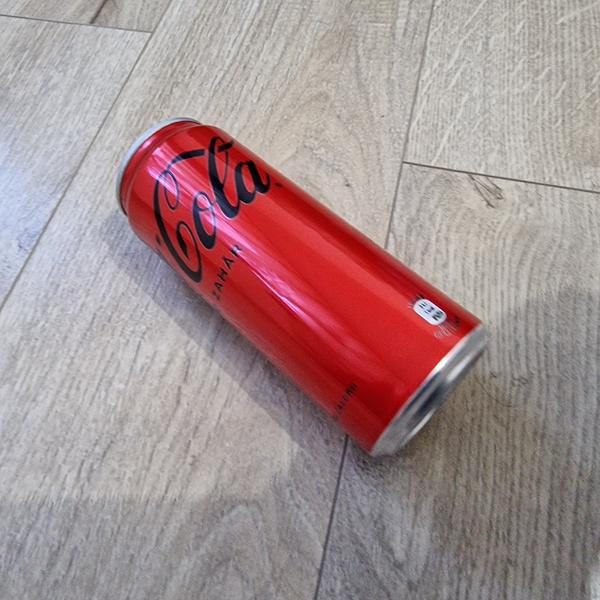can: (89, 66, 502, 468)
